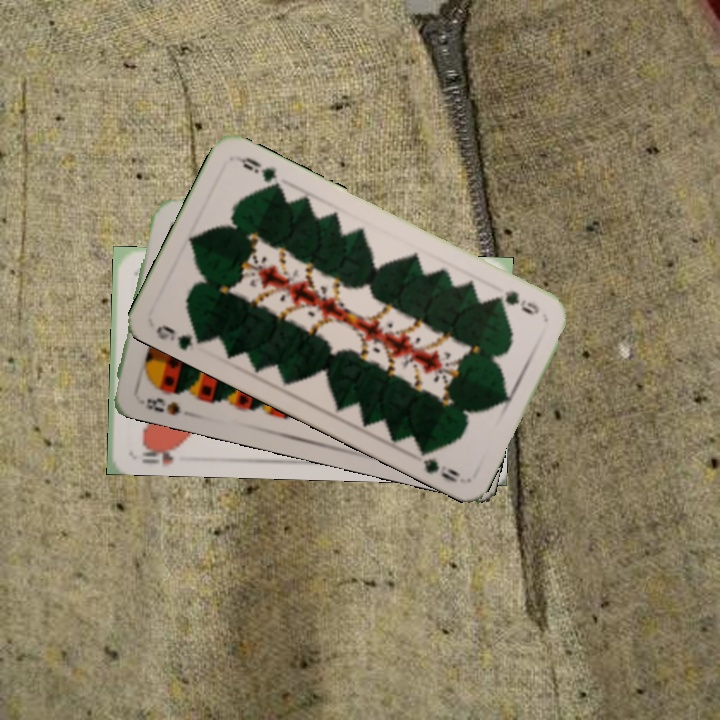G9: (152, 321, 209, 353), (489, 286, 542, 318)
HO: (138, 440, 183, 468)
S8: (141, 393, 183, 418)
